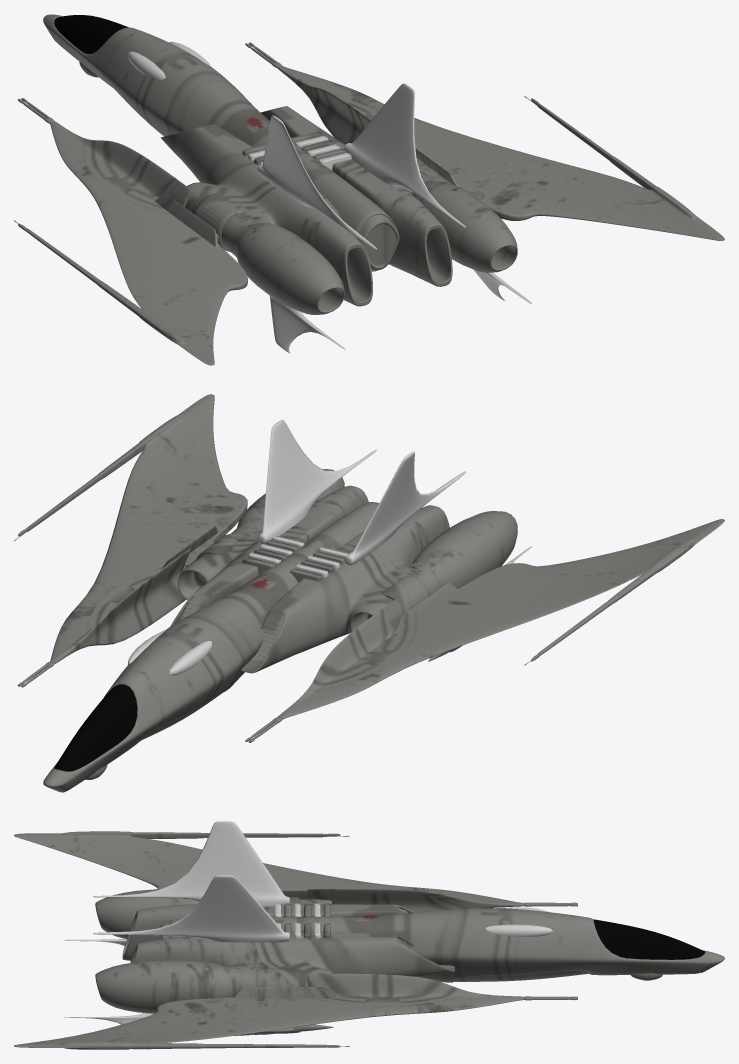
The model's file is Wraith1.fbx.
3 renders of one model, top to bottom at view 1: azimuth 30°, elevation 25°; view 2: azimuth 150°, elevation 25°; view 3: azimuth 270°, elevation 25°, orthographic. The views are drawn at different scales.
Parts seen in each view (by area): view 1: ARMwing Left 01, ARMwing Left 02, SC Star Drive N2 type Left, SC Fighter Main Hull, SC Star Drive N2 type Right, Top Wing R01, Top Wing L01, Bottom Wing L01, SC ARMWİNG dial L01, SC Shield N field Gen AMPLIFIER L01, SC Phase shifter GENnozz II; view 2: ARMwing Left 02, ARMwing Left 01, SC Fighter Main Hull, SC Star Drive N2 type Left, SC Star Drive N2 type Right, Top Wing R01, Top Wing L01, SC ARMWİNG dial L01, SC Shield N field Gen AMPLIFIER L01, SC Phase shifter GENnozz II, SC ACU unit / Particle AYN Array L01; view 3: SC Fighter Main Hull, ARMwing Left 02, SC Star Drive N2 type Right, ARMwing Left 01, Top Wing R01, Top Wing L01, SC Star Drive N2 type Left, SC Shield N field Gen AMPLIFIER R01, SC ARMWİNG dial R01, SC Phase shifter GENnozz II.
Boxes of the visible parts, x1,y1,x2,y2 form: ARMwing Left 01: (14,98,247,365); ARMwing Left 02: (245,42,724,240); SC Star Drive N2 type Left: (161,123,372,314); SC Fighter Main Hull: (43,14,399,271); SC Star Drive N2 type Right: (260,106,517,286); Top Wing R01: (344,83,466,227); Top Wing L01: (257,115,376,249); Bottom Wing L01: (269,295,345,353); SC ARMWİNG dial L01: (194,193,241,251); SC Shield N field Gen AMPLIFIER L01: (154,195,217,246); SC Phase shifter GENnozz II: (128,41,211,79); ARMwing Left 02: (14,394,247,687); ARMwing Left 01: (245,519,724,742); SC Fighter Main Hull: (43,502,379,792); SC Star Drive N2 type Left: (241,505,517,673); SC Star Drive N2 type Right: (170,469,368,626); Top Wing R01: (257,419,376,544); Top Wing L01: (344,451,465,565); SC ARMWİNG dial L01: (381,576,429,614); SC Shield N field Gen AMPLIFIER L01: (396,583,459,636); SC Phase shifter GENnozz II: (127,630,211,675); SC ACU unit / Particle AYN Array L01: (256,611,283,656); SC Fighter Main Hull: (161,908,724,982); ARMwing Left 02: (14,973,577,1049); SC Star Drive N2 type Right: (95,931,454,1013); ARMwing Left 01: (14,831,577,912); Top Wing R01: (93,875,289,942); Top Wing L01: (93,821,289,906); SC Star Drive N2 type Left: (95,889,414,960); SC Shield N field Gen AMPLIFIER R01: (233,987,338,998); SC ARMWİNG dial R01: (255,968,299,986); SC Phase shifter GENnozz II: (486,907,553,936).
Size of the model in its own units: 1654 by 2315 by 563.
Materials: 3 (1 with a texture image).
